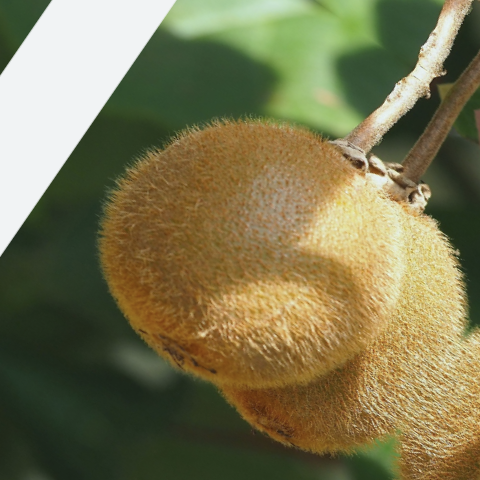kiwi: (35, 38, 463, 469)
